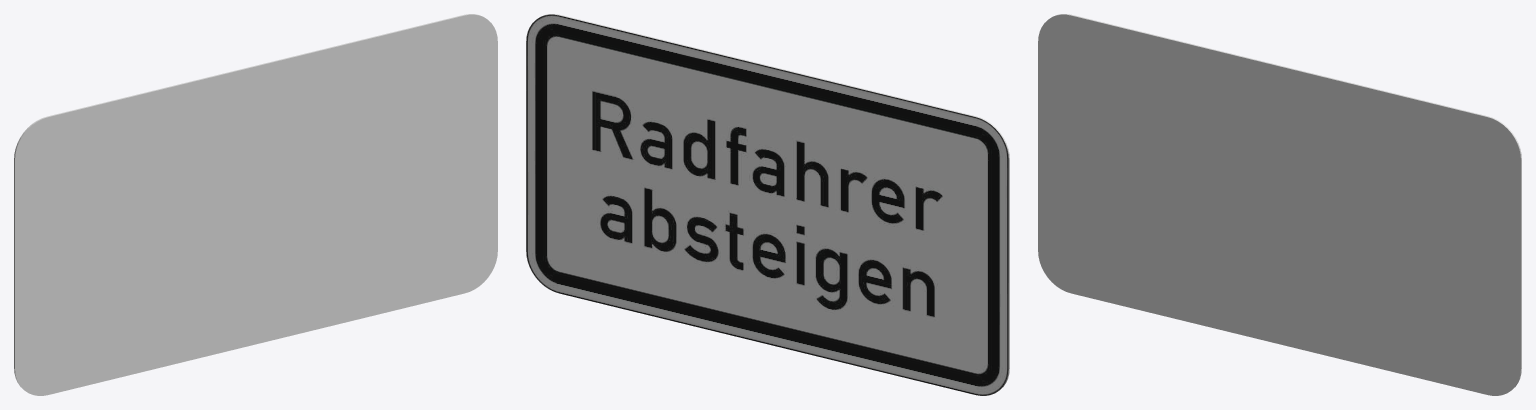
3 renders of one model, left to right at view 1: azimuth 30°, elevation 25°; view 2: azimuth 150°, elevation 25°; view 3: azimuth 330°, elevation 25°, orthographic.
Parts seen in each view (by area): view 1: Plane; view 2: Plane; view 3: Plane.
Part boxes in pixels (x1,y1,x2,y2): Plane: [14, 14, 497, 395]; Plane: [526, 14, 1009, 395]; Plane: [1038, 14, 1521, 395].
Size of the model in its own units: 0.6 by 0.33 by 0.002.
Materials: 2 (1 with a texture image).
